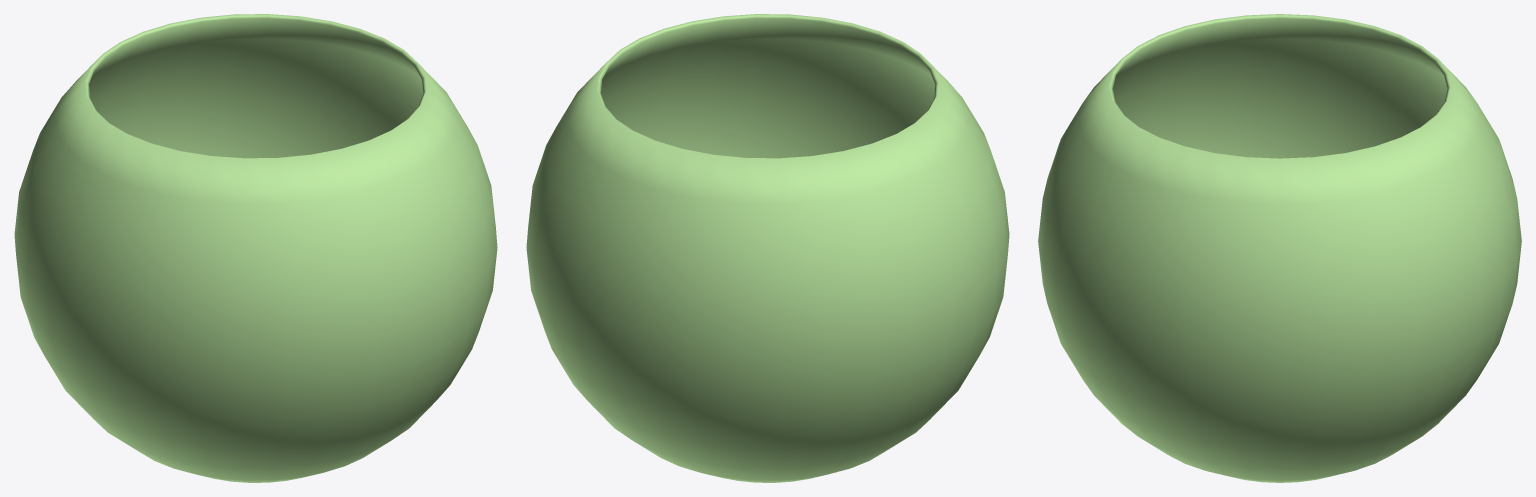
File: maceta maca.fbx
3 views of the same model, side by side, from view 1: azimuth 30°, elevation 25°; view 2: azimuth 150°, elevation 25°; view 3: azimuth 270°, elevation 25° (orthographic).
Visible parts, largest first — view 1: Sphere; view 2: Sphere; view 3: Sphere.
Part boxes in pixels (x1=…): Sphere: x1=14, y1=14, x2=497, y2=482; Sphere: x1=526, y1=14, x2=1009, y2=482; Sphere: x1=1038, y1=14, x2=1521, y2=482.
Bounding box in the file's own units: 9.01 × 7.34 × 9.01.
